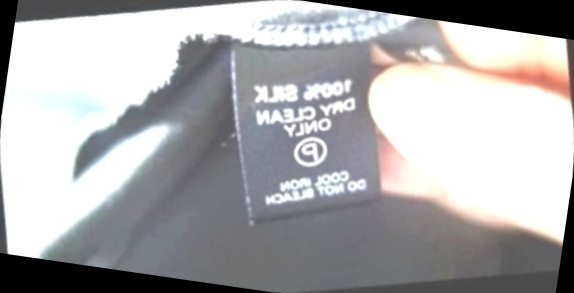dry_clean_any_solvent_except_trichloroethylene: (280, 122, 339, 180)
